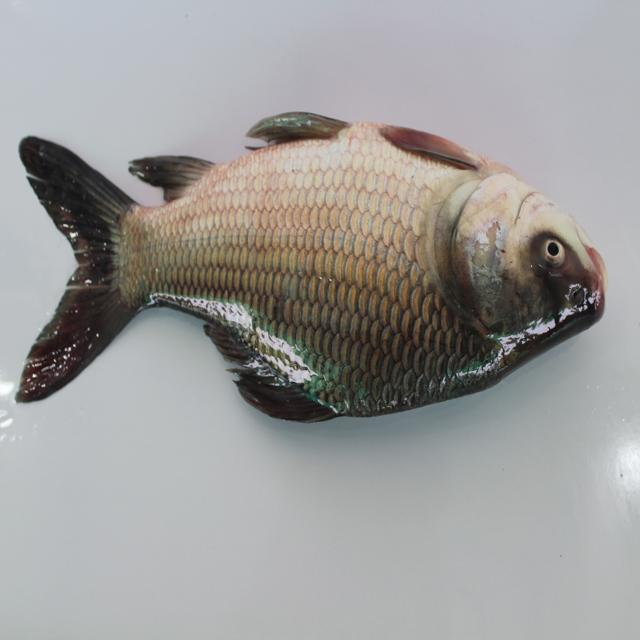Catla: (16, 74, 612, 464)
